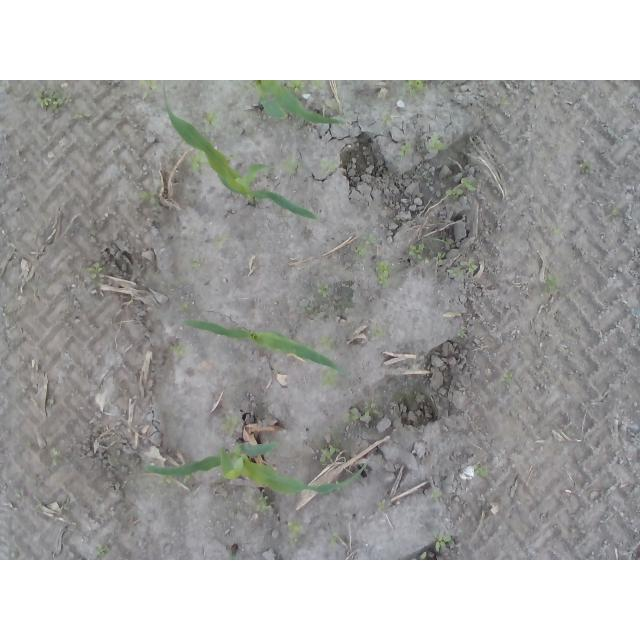Maize: (161, 87, 321, 224), (144, 442, 369, 499), (181, 319, 340, 370), (251, 80, 346, 126)
Weeds: (33, 87, 72, 112), (345, 399, 384, 423), (85, 260, 104, 288), (355, 233, 377, 257), (376, 259, 393, 289), (220, 416, 243, 437), (281, 155, 304, 176), (401, 80, 427, 98), (199, 110, 222, 130), (425, 134, 449, 153), (288, 519, 305, 545), (380, 105, 400, 125), (191, 150, 209, 172), (137, 191, 160, 208), (320, 158, 340, 177), (545, 271, 559, 297), (319, 335, 337, 354), (319, 447, 337, 465), (459, 176, 477, 193), (318, 281, 335, 299), (320, 368, 337, 386), (435, 535, 453, 552), (287, 81, 307, 96), (326, 96, 343, 113), (408, 243, 425, 260), (543, 225, 561, 241), (399, 142, 415, 160), (472, 465, 488, 480), (214, 233, 230, 248), (257, 496, 271, 513), (580, 159, 593, 177), (95, 544, 110, 559), (446, 188, 463, 200), (448, 266, 465, 278), (466, 256, 478, 273), (167, 343, 187, 353), (138, 80, 160, 89), (499, 372, 514, 385), (434, 253, 447, 266), (431, 235, 449, 244), (312, 80, 327, 90), (52, 447, 60, 465), (431, 490, 441, 504), (377, 499, 386, 514), (190, 257, 199, 271), (374, 327, 385, 338), (413, 552, 428, 560), (610, 207, 620, 217), (499, 97, 509, 107), (179, 304, 190, 313), (330, 536, 339, 546), (304, 304, 313, 312), (456, 329, 465, 337)
